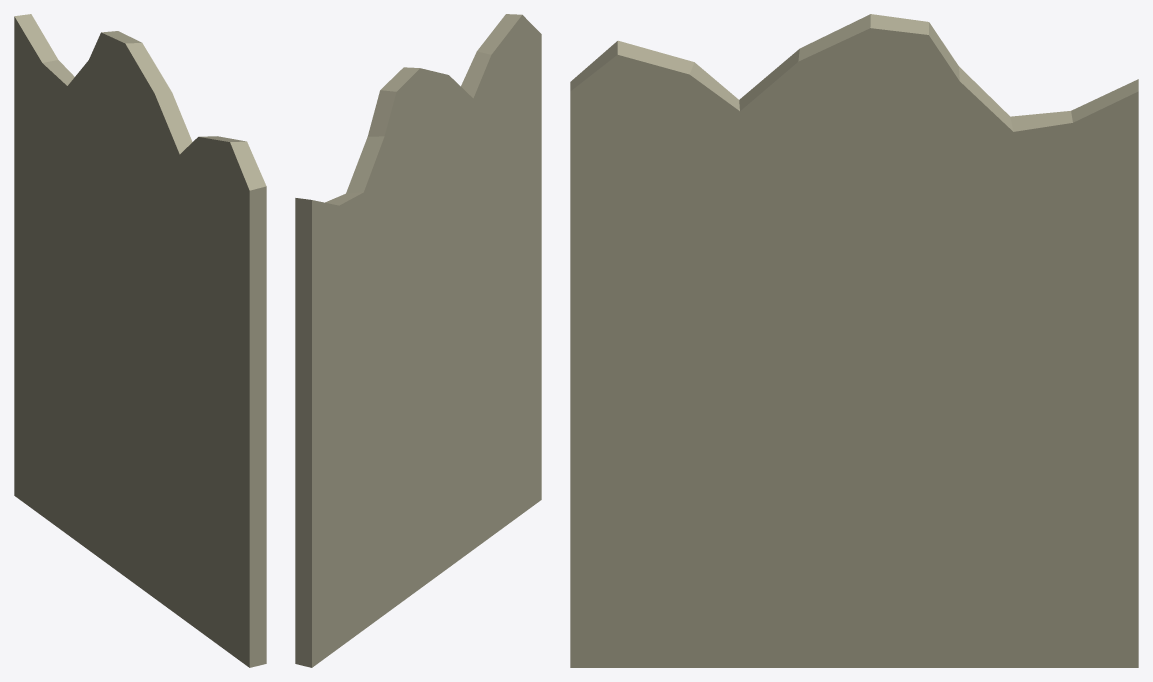
File: HalfWallBroken.fbx
3 renders of one model, left to right at view 1: azimuth 30°, elevation 25°; view 2: azimuth 150°, elevation 25°; view 3: azimuth 270°, elevation 25°, orthographic. The views are drawn at different scales.
Parts seen in each view (by area): view 1: HalfWallBroken; view 2: HalfWallBroken; view 3: HalfWallBroken.
Boxes of the visible parts, x1,y1,x2,y2 form: HalfWallBroken: (14, 14, 266, 667); HalfWallBroken: (295, 14, 541, 667); HalfWallBroken: (570, 14, 1138, 667).
Bounding box in the file's own units: 0.25 × 7.5 × 6.
